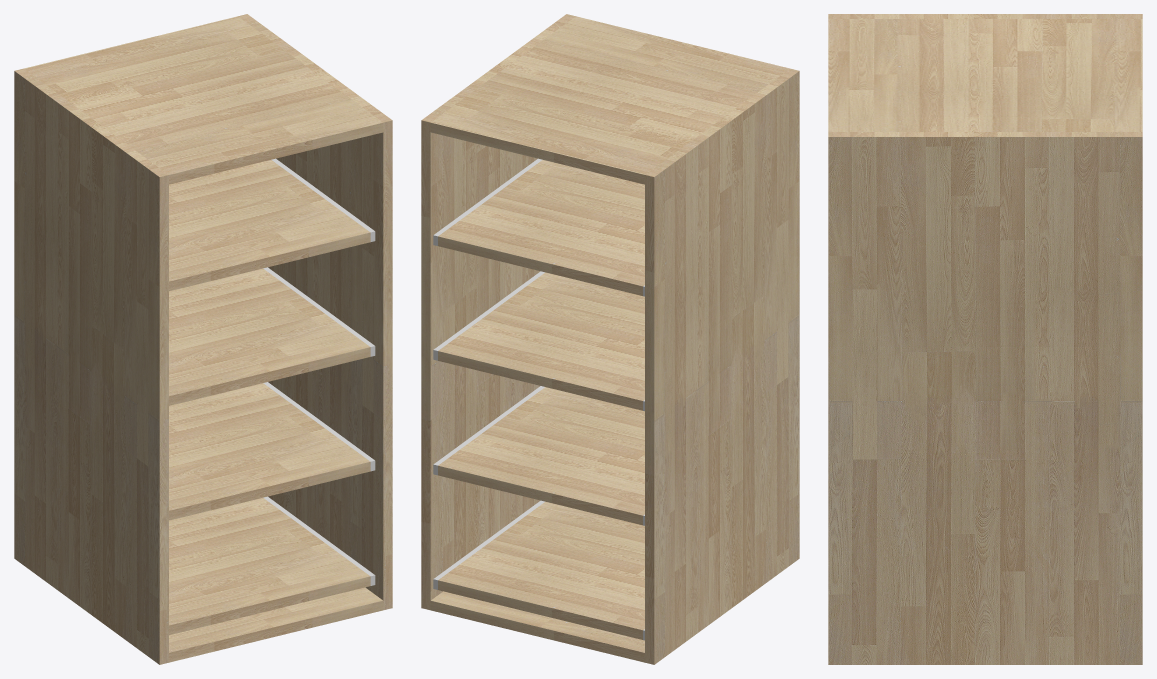
The picture shows the model from 3 angles, left to right: view 1: azimuth 30°, elevation 25°; view 2: azimuth 150°, elevation 25°; view 3: azimuth 270°, elevation 25°; orthographic projection. The views are drawn at different scales.
Parts seen in each view (by area): view 1: Hylde; view 2: Hylde; view 3: Hylde.
Boxes of the visible parts, box(x1,y1,x2,y2) form: Hylde: box(14, 14, 392, 664); Hylde: box(421, 14, 799, 664); Hylde: box(828, 14, 1142, 664).
Bounding box in the file's own units: 0.5 × 1 × 0.54.
2 materials, 1 textured.
